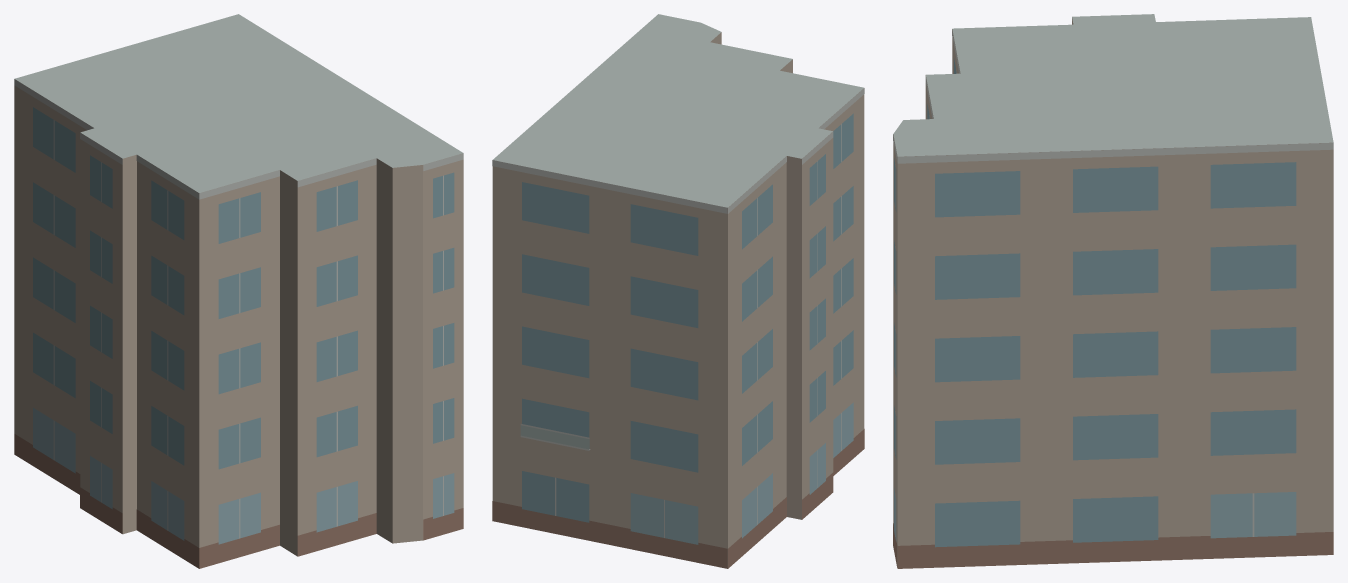
Rendered from survey-upis-32697552.glb.
3 renders of one model, left to right at view 1: azimuth 30°, elevation 25°; view 2: azimuth 150°, elevation 25°; view 3: azimuth 270°, elevation 25°, orthographic. The views are drawn at different scales.
Visible parts, largest first — view 1: survey-upis-32697552.tmp; view 2: survey-upis-32697552.tmp; view 3: survey-upis-32697552.tmp.
Boxes of the visible parts, <box> form: survey-upis-32697552.tmp: <box>14,14,463,568</box>; survey-upis-32697552.tmp: <box>492,14,864,568</box>; survey-upis-32697552.tmp: <box>893,14,1333,568</box>.
Size of the model in its own units: 10.55 by 14.2 by 13.76.
